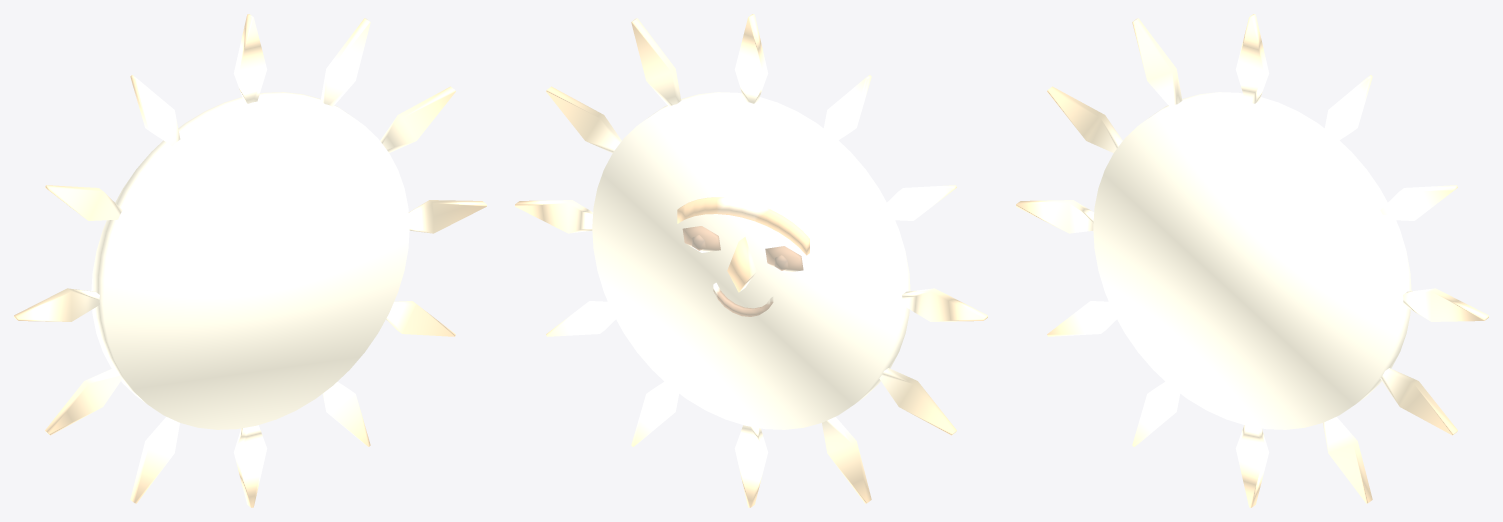
The model's file is sky_sungod_01_mesh_1200.glb.
3 views of the same model, side by side, from view 1: azimuth 30°, elevation 25°; view 2: azimuth 150°, elevation 25°; view 3: azimuth 330°, elevation 25° (orthographic).
Parts seen in each view (by area): view 1: sky_sungod; view 2: sky_sungod; view 3: sky_sungod.
Part boxes in pixels (x1,y1,x2,y2): sky_sungod: (14, 14, 486, 507); sky_sungod: (515, 14, 987, 507); sky_sungod: (1016, 14, 1488, 507).
Size of the model in its own units: 3.06 by 3.06 by 0.2222.
